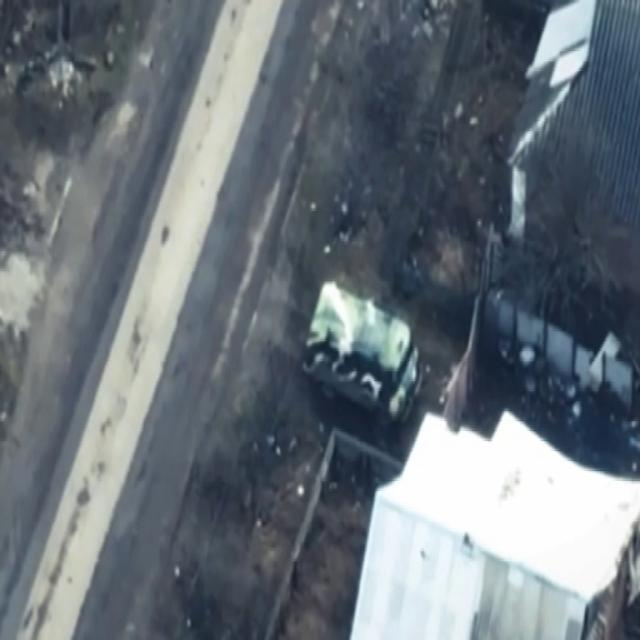CAR: (303, 276, 417, 426)
